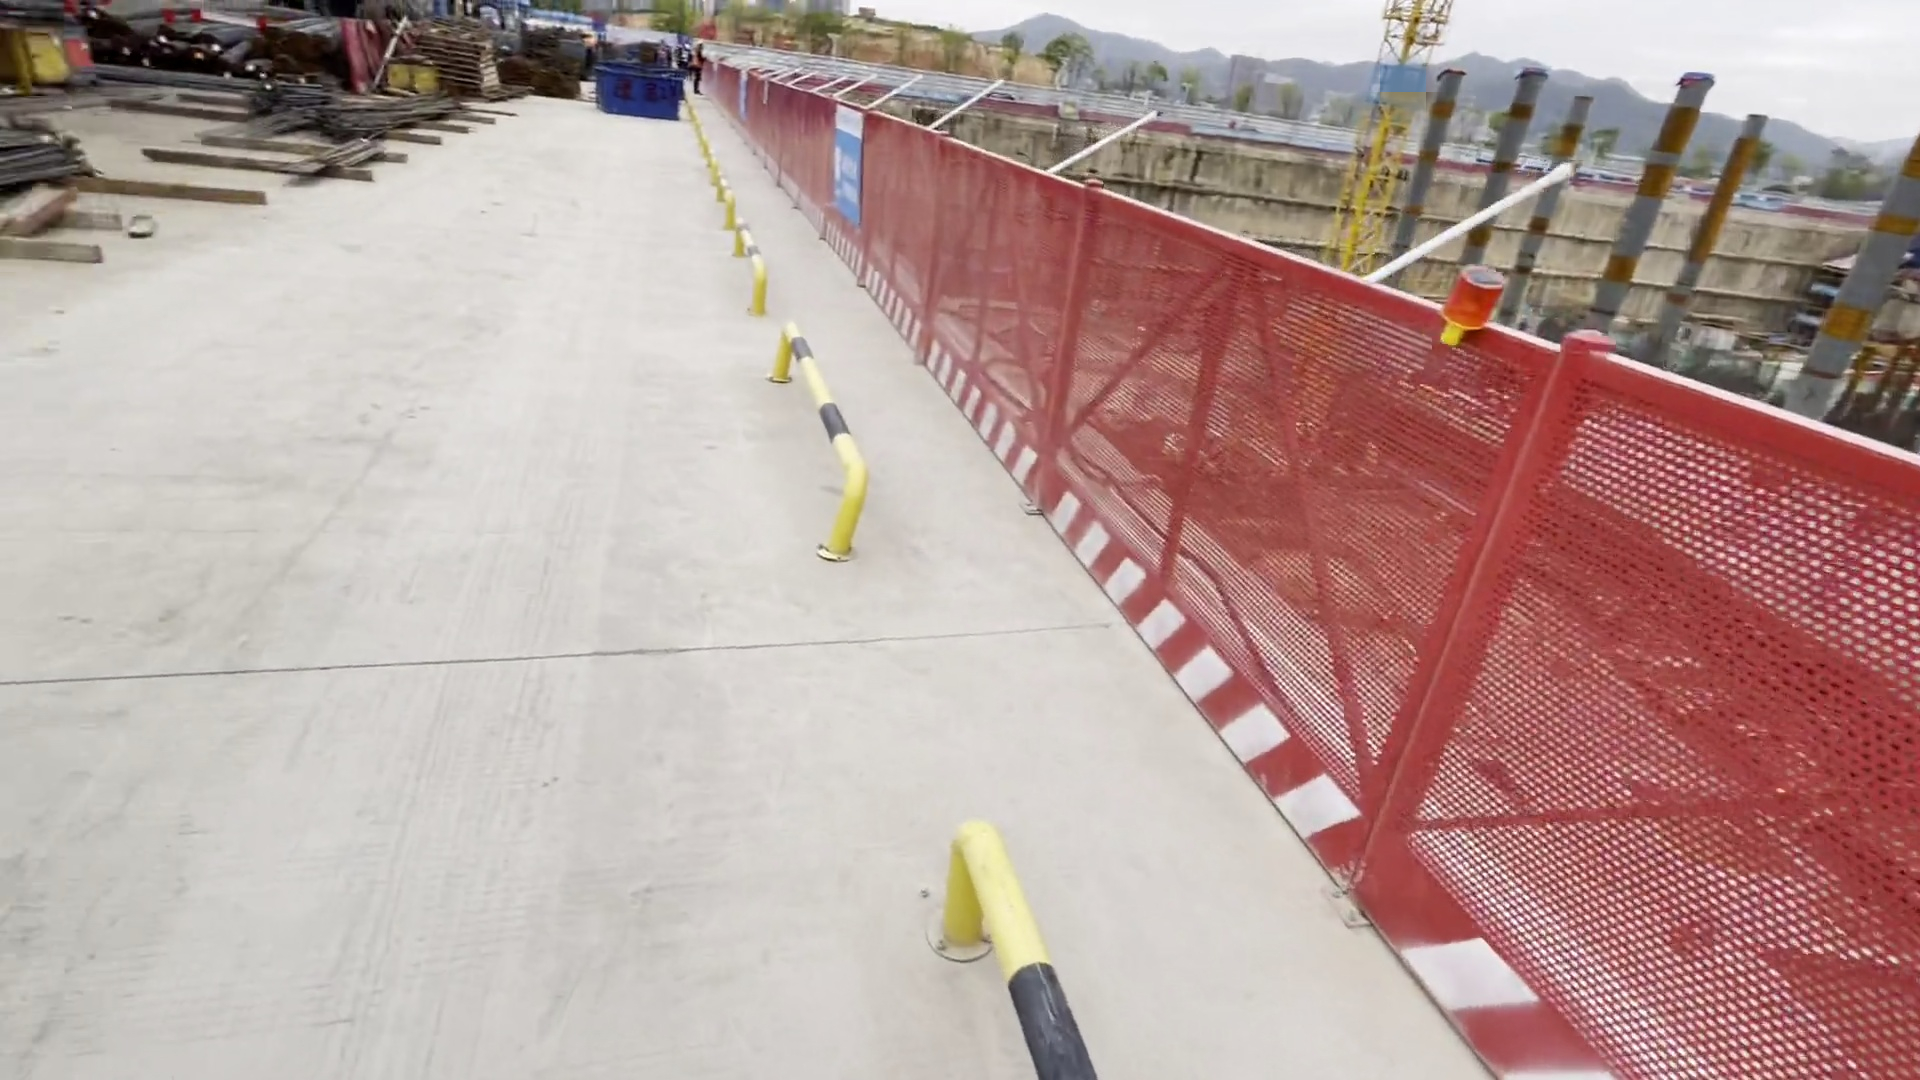fence: (1095, 251, 1904, 1080), (724, 74, 1102, 469)
hopper: (596, 64, 687, 119)
person: (690, 38, 707, 96)
rebar: (216, 83, 474, 185), (84, 1, 348, 79), (1, 100, 89, 180)
